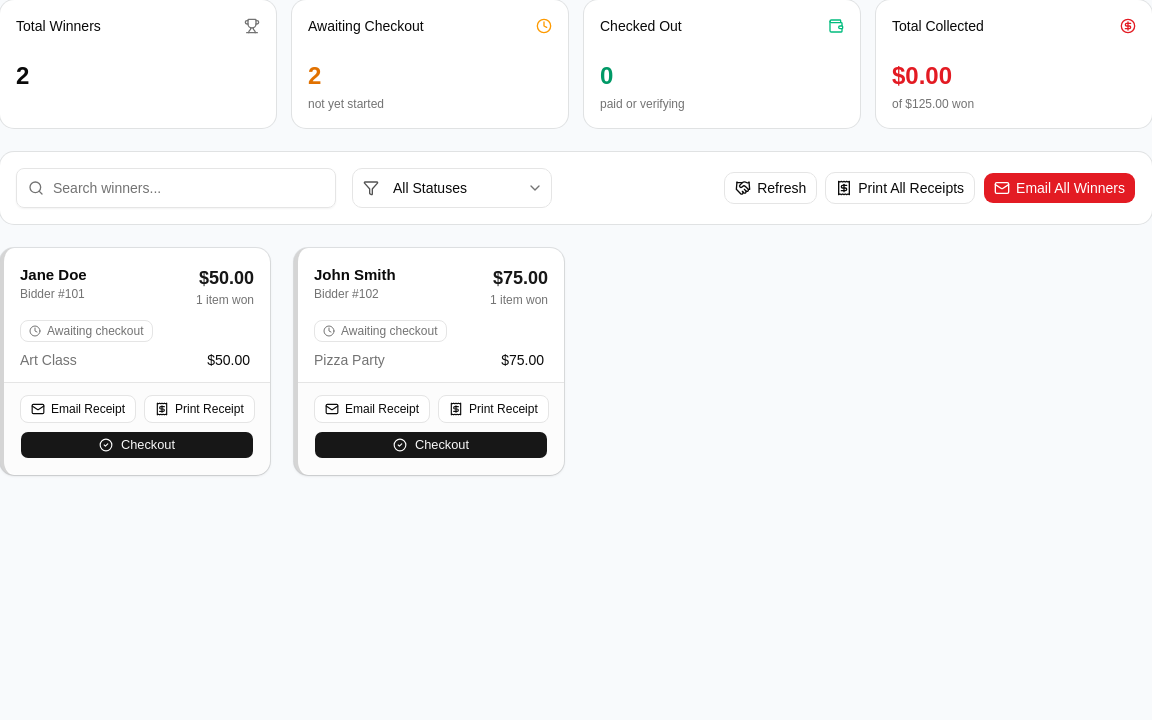
Checkout › Mark paid / payment method dialog › Confirm Payment is disabled until a method is selected
Expected: the text "Jane Doe" is shown, [20,264,87,286]
Click the button "Checkout" below "Art Class". click: (137, 445)
box: [20,431,254,459]
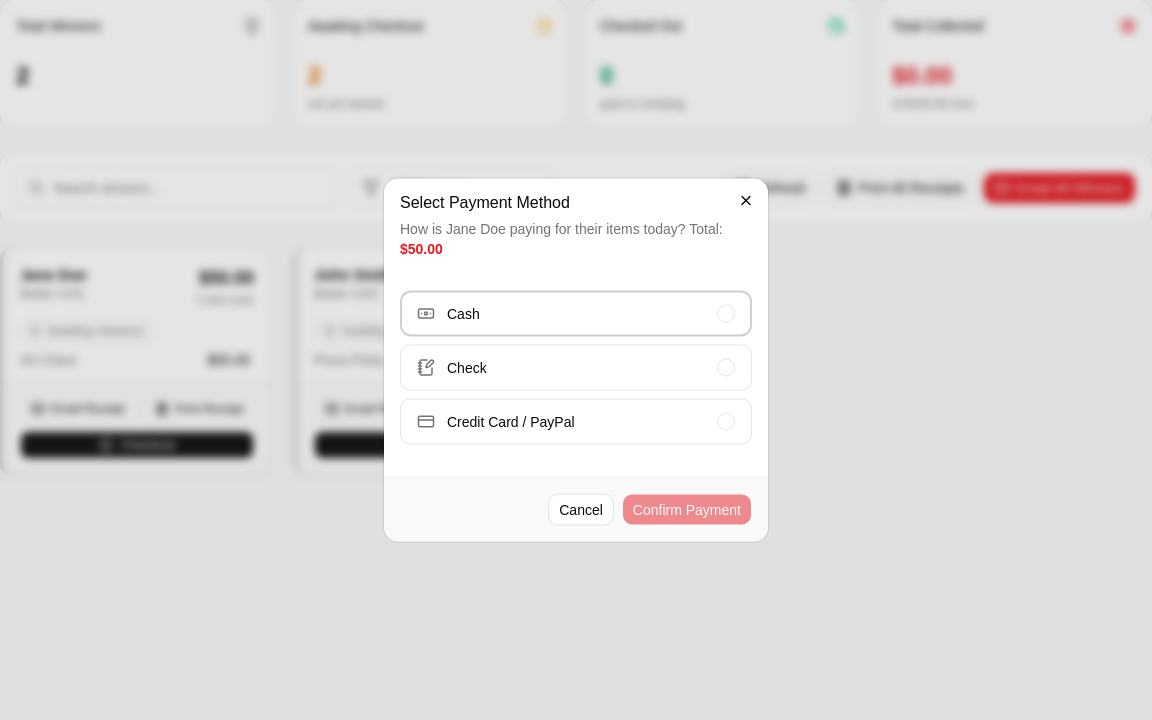
Now the heading "Select Payment Method" is shown, box [400,194,570,210]
Now the button "Confirm Payment" is disabled, box [622,494,752,526]
Click the button "Cash". click: (463, 314)
box: [400,290,752,336]
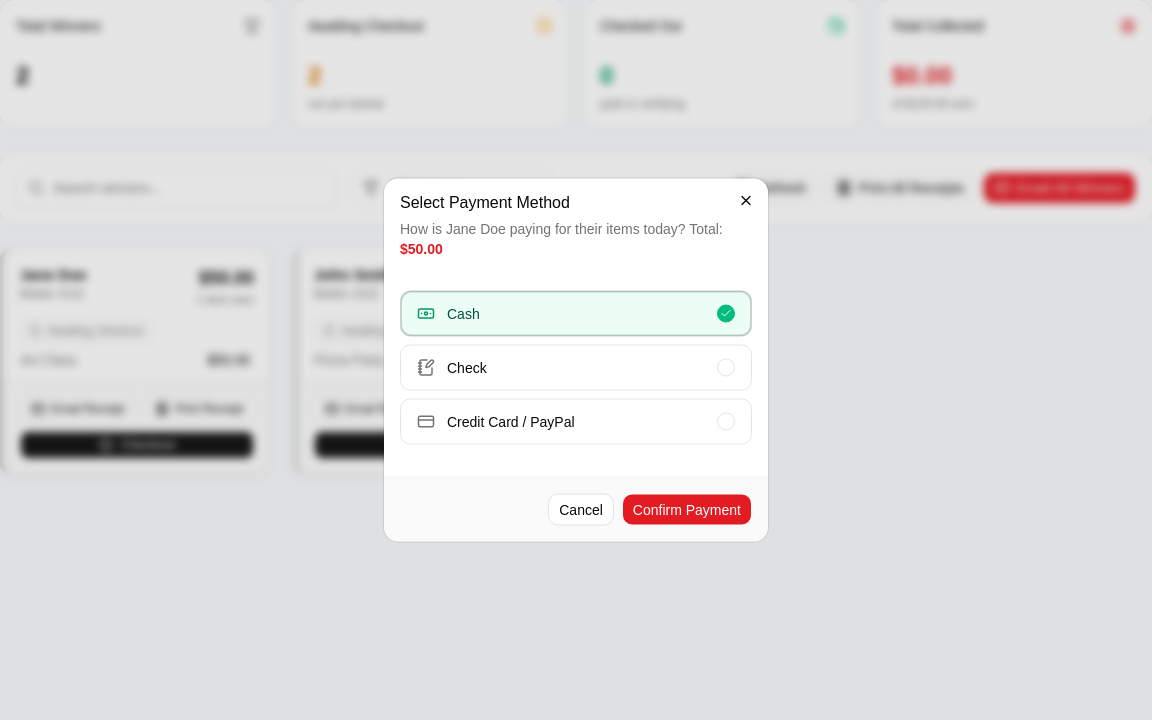
Now the button "Confirm Payment" is enabled, box [622,494,752,526]
